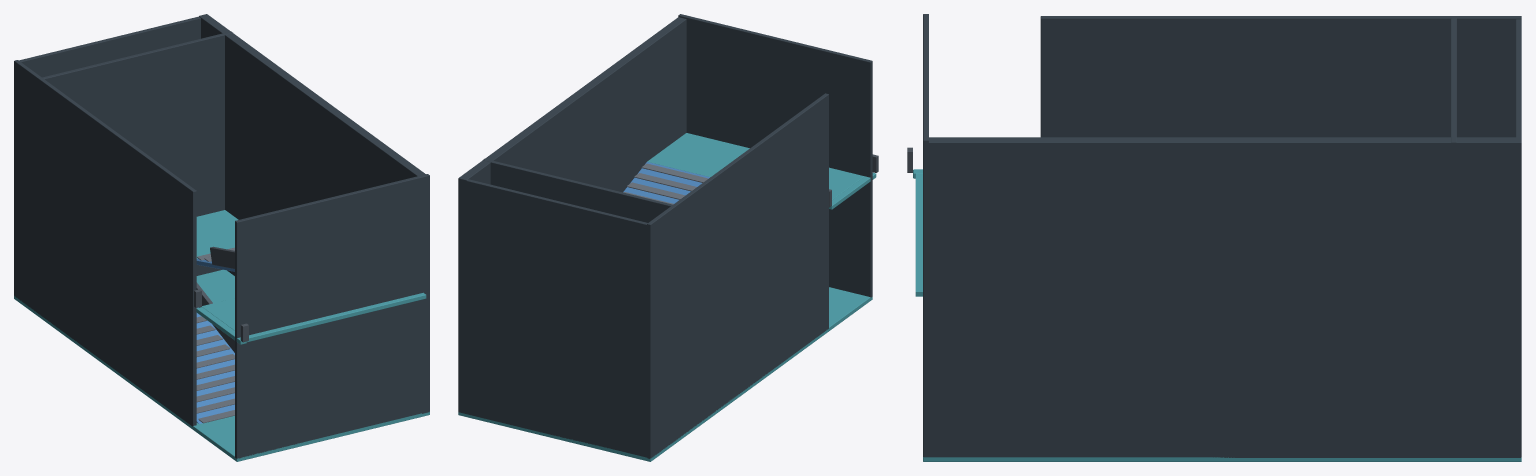
The model's file is env_tower_stairwell_generic_9m_top3d_v002.glb.
The picture shows the model from 3 angles, left to right: view 1: azimuth 30°, elevation 25°; view 2: azimuth 150°, elevation 25°; view 3: azimuth 270°, elevation 25°; orthographic projection. The views are drawn at different scales.
Parts seen in each view (by area): view 1: Stair_Generic_Rotatable_EnclosureWall_Inner, Stair_Generic_Rotatable_EnclosureWall_DoorSide, Stair_Generic_Rotatable_EnclosureWall_Outer, Stair_Generic_Rotatable_EnclosureWall_Far.001, Stair_Generic_Rotatable_EnclosureWall_Far, Stair_Generic_Rotatable_LowerDoorLanding_Walkable, Stair_Generic_Rotatable_LowerFlight_Walkable, Stair_Generic_Rotatable_UpperDoorLanding_Walkable, Stair_Generic_Rotatable_TurnLanding_Walkable, Stair_Generic_Rotatable_UpperFlight_Guard_02, Stair_Generic_Rotatable_CoreConnector_Walkable; view 2: Stair_Generic_Rotatable_EnclosureWall_Far, Stair_Generic_Rotatable_EnclosureWall_Inner, Stair_Generic_Rotatable_EnclosureWall_DoorSide, Stair_Generic_Rotatable_EnclosureWall_Outer, Stair_Generic_Rotatable_EnclosureWall_Far.001, Stair_Generic_Rotatable_UpperDoorLanding_Walkable, Stair_Generic_Rotatable_LowerDoorLanding_Walkable, Stair_Generic_Rotatable_UpperFlight_Walkable; view 3: Stair_Generic_Rotatable_EnclosureWall_Outer, Stair_Generic_Rotatable_EnclosureWall_Inner, Stair_Generic_Rotatable_LowerDoorLanding_Walkable, Stair_Generic_Rotatable_EnclosureWall_DoorSide, Stair_Generic_Rotatable_UpperDoorLanding_Walkable, Stair_Generic_Rotatable_EnclosureWall_Far, Stair_Generic_Rotatable_EnclosureWall_Far.001.
Part boxes in pixels (box(x1,y1,x2,y2)): Stair_Generic_Rotatable_EnclosureWall_Inner: box(14, 60, 196, 426); Stair_Generic_Rotatable_EnclosureWall_DoorSide: box(235, 174, 429, 458); Stair_Generic_Rotatable_EnclosureWall_Outer: box(199, 14, 429, 413); Stair_Generic_Rotatable_EnclosureWall_Far.001: box(38, 31, 232, 313); Stair_Generic_Rotatable_EnclosureWall_Far: box(19, 16, 200, 77); Stair_Generic_Rotatable_LowerDoorLanding_Walkable: box(14, 269, 429, 461); Stair_Generic_Rotatable_LowerFlight_Walkable: box(196, 307, 234, 423); Stair_Generic_Rotatable_UpperDoorLanding_Walkable: box(202, 292, 426, 342); Stair_Generic_Rotatable_TurnLanding_Walkable: box(196, 210, 238, 258); Stair_Generic_Rotatable_UpperFlight_Guard_02: box(210, 246, 234, 268); Stair_Generic_Rotatable_CoreConnector_Walkable: box(196, 307, 246, 344); Stair_Generic_Rotatable_EnclosureWall_Far: box(458, 179, 647, 457); Stair_Generic_Rotatable_EnclosureWall_Inner: box(647, 93, 828, 458); Stair_Generic_Rotatable_EnclosureWall_DoorSide: box(678, 14, 872, 297); Stair_Generic_Rotatable_EnclosureWall_Outer: box(458, 17, 686, 192); Stair_Generic_Rotatable_EnclosureWall_Far.001: box(482, 158, 676, 259); Stair_Generic_Rotatable_UpperDoorLanding_Walkable: box(647, 133, 864, 199); Stair_Generic_Rotatable_LowerDoorLanding_Walkable: box(458, 287, 872, 461); Stair_Generic_Rotatable_UpperFlight_Walkable: box(623, 162, 709, 203); Stair_Generic_Rotatable_EnclosureWall_Outer: box(923, 137, 1521, 457); Stair_Generic_Rotatable_EnclosureWall_Inner: box(1040, 16, 1521, 137); Stair_Generic_Rotatable_LowerDoorLanding_Walkable: box(923, 457, 1521, 461); Stair_Generic_Rotatable_EnclosureWall_DoorSide: box(923, 14, 928, 457); Stair_Generic_Rotatable_UpperDoorLanding_Walkable: box(915, 173, 922, 296); Stair_Generic_Rotatable_EnclosureWall_Far: box(1516, 19, 1521, 453); Stair_Generic_Rotatable_EnclosureWall_Far.001: box(1451, 16, 1456, 211).
Size of the model in its own units: 15 by 17.88 by 30.8.
